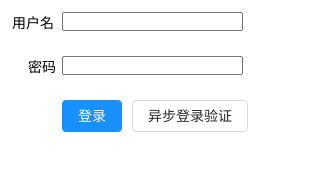
Test: 基本实例表单Form测试 › 输入密码小于6位点击登录验证
In the field next to "密码": point(152, 66) [62,56,243,75], type "simon"
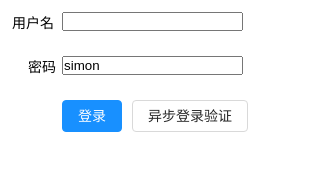
Click the button "登录": point(92, 116) [62,100,122,132]
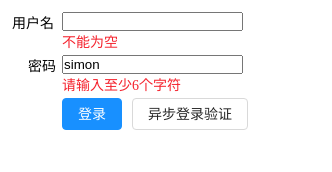
Expected: the text with class "xiao-form-item-explain-error" reads "请输入至少6个字符", [62,78,181,93]
